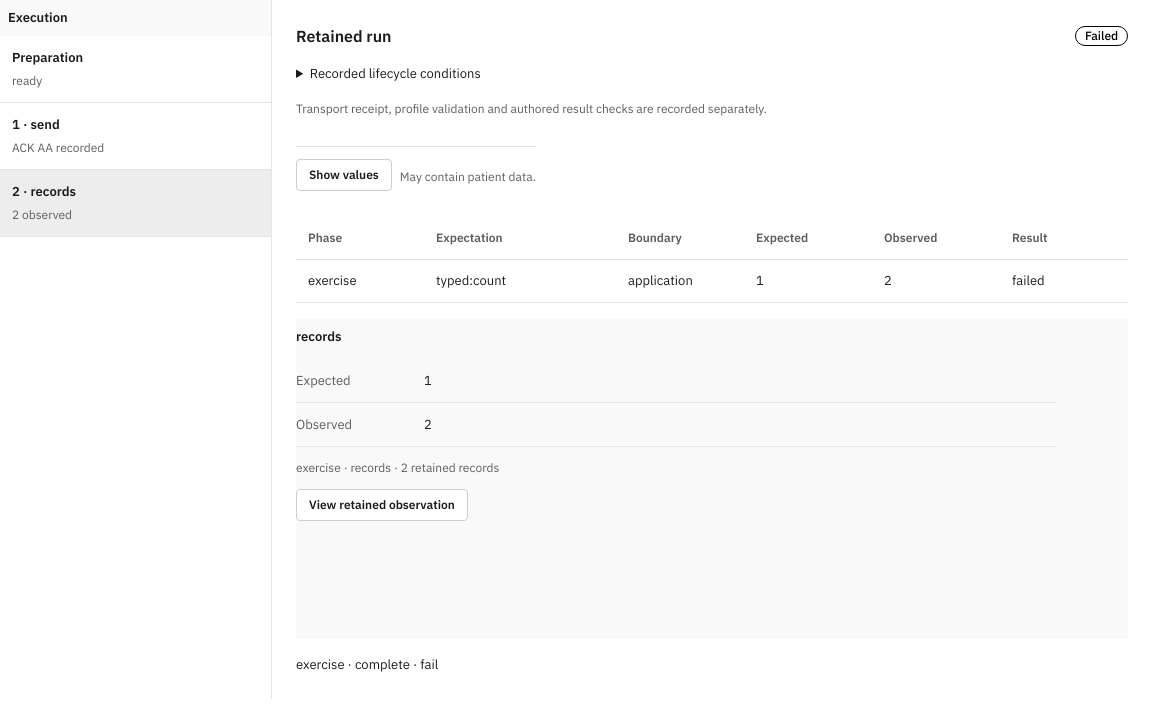
Scenario: connected result separates actual transport and application evidence and opens only retained observations
Expected: the cells read "typed:count", "application", "1", "2", "failed", in this order, top-left (424, 260), bottom-right (616, 303); top-left (616, 260), bottom-right (744, 303); top-left (744, 260), bottom-right (872, 303); top-left (872, 260), bottom-right (1000, 303); top-left (1000, 260), bottom-right (1128, 303)
Click the button "View retained observation": click(382, 505) top-left (296, 489), bottom-right (468, 521)
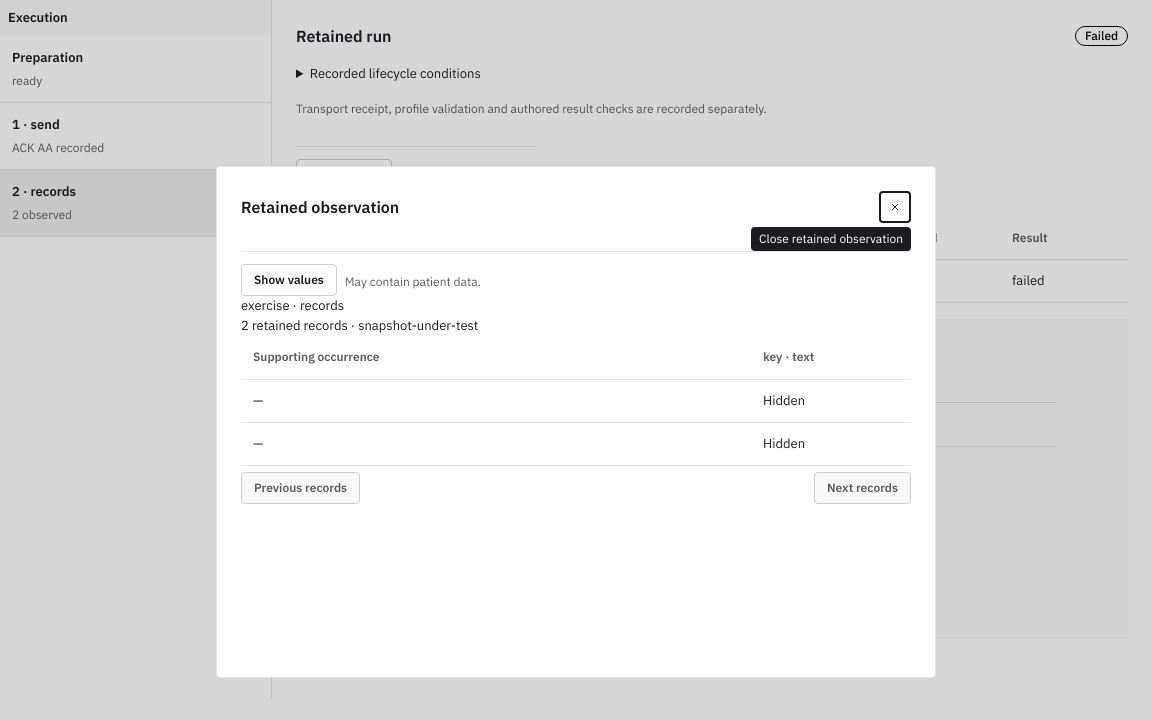
Now the table named "Retained observation records" is shown, box top-left (241, 336), bottom-right (911, 466)
